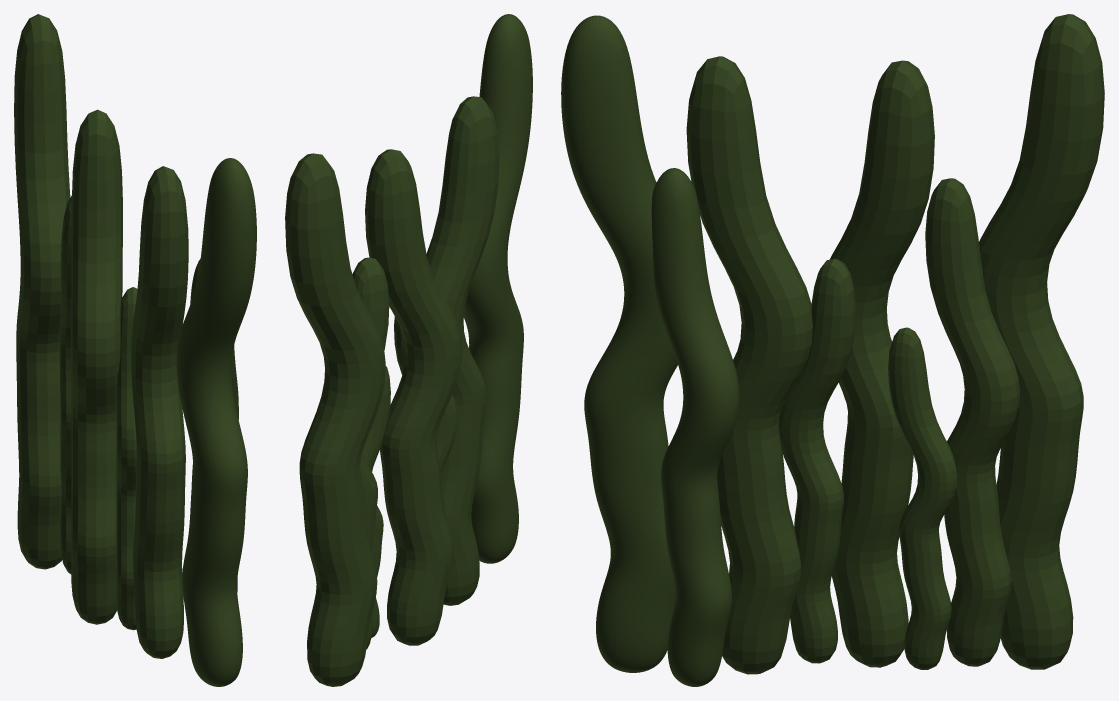
The model's file is algasFBX1.fbx.
The picture shows the model from 3 angles, left to right: view 1: azimuth 30°, elevation 25°; view 2: azimuth 150°, elevation 25°; view 3: azimuth 270°, elevation 25°; orthographic projection. The views are drawn at different scales.
Parts seen in each view (by area): view 1: Cube.003; view 2: Cube.003; view 3: Cube.003.
Boxes of the visible parts, bbox=[...] form: Cube.003: bbox=[14, 14, 256, 686]; Cube.003: bbox=[285, 14, 532, 686]; Cube.003: bbox=[561, 14, 1104, 686].
Bounding box in the file's own units: 90.7 × 446 × 331.
